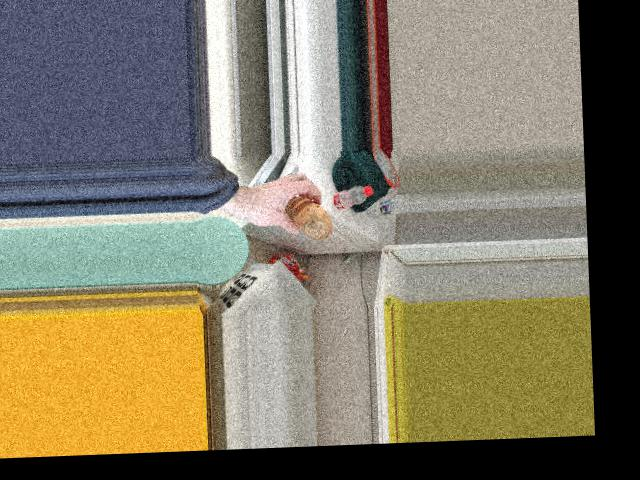sweet_potato: (282, 195, 331, 238)
